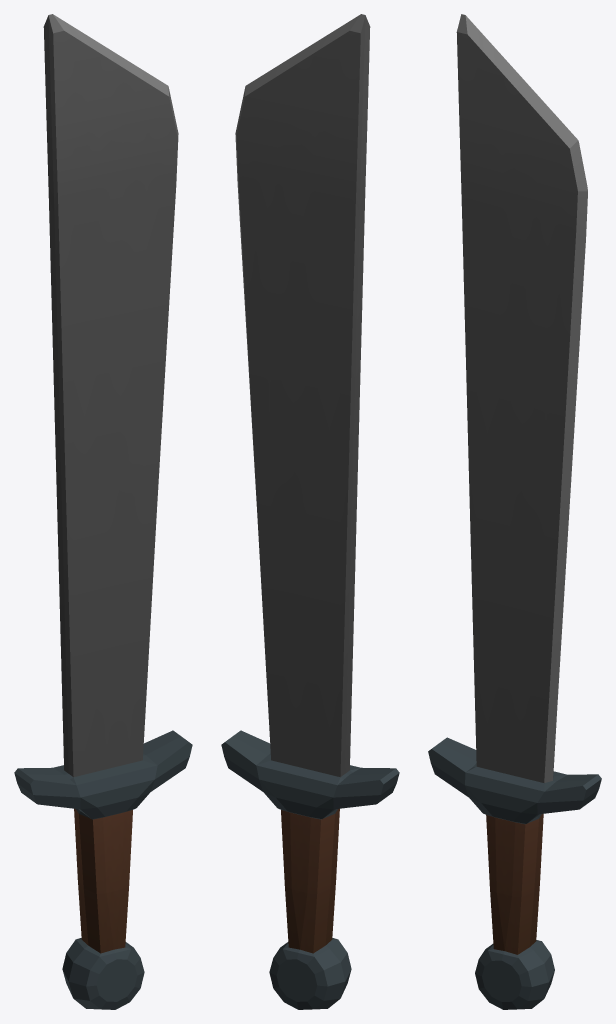
The model's file is Sword_Falchion.fbx.
3 renders of one model, left to right at view 1: azimuth 30°, elevation 25°; view 2: azimuth 150°, elevation 25°; view 3: azimuth 330°, elevation 25°, orthographic. The views are drawn at different scales.
Visible parts, largest first — view 1: Sword_Falchion; view 2: Sword_Falchion; view 3: Sword_Falchion.
Part boxes in pixels (bbox=[...]): Sword_Falchion: bbox=[14, 14, 192, 1009]; Sword_Falchion: bbox=[221, 14, 399, 1009]; Sword_Falchion: bbox=[428, 14, 601, 1009].
Bounding box in the file's own units: 59.04 × 350 × 17.98.
